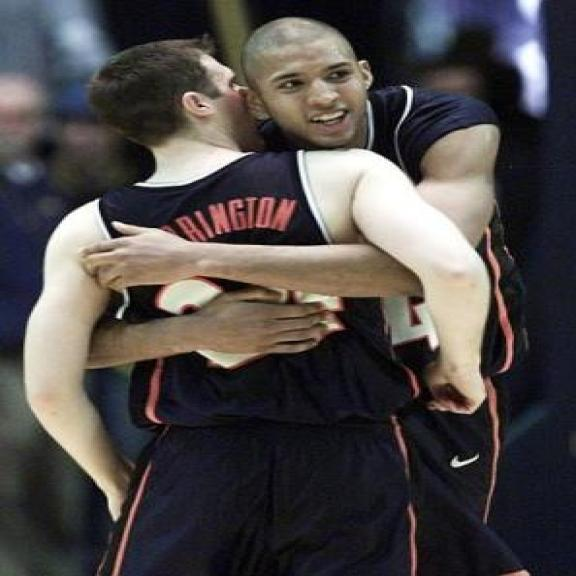face: (251, 40, 381, 146), (177, 41, 271, 153)
